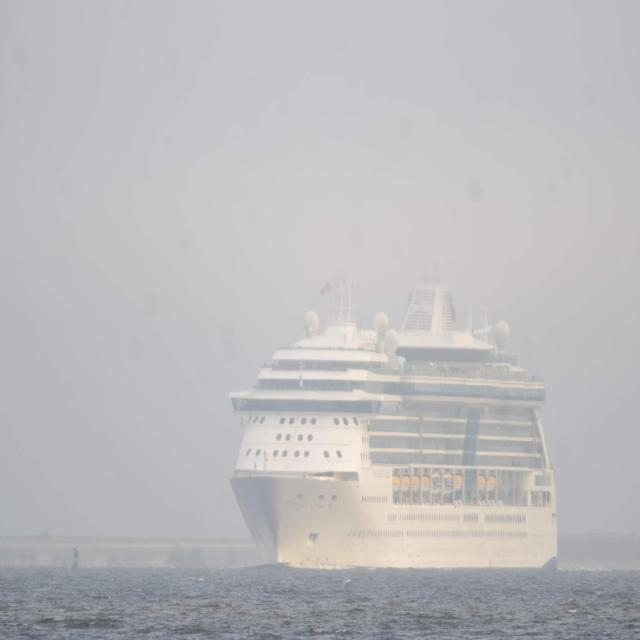passenger ship: (224, 270, 554, 574)
